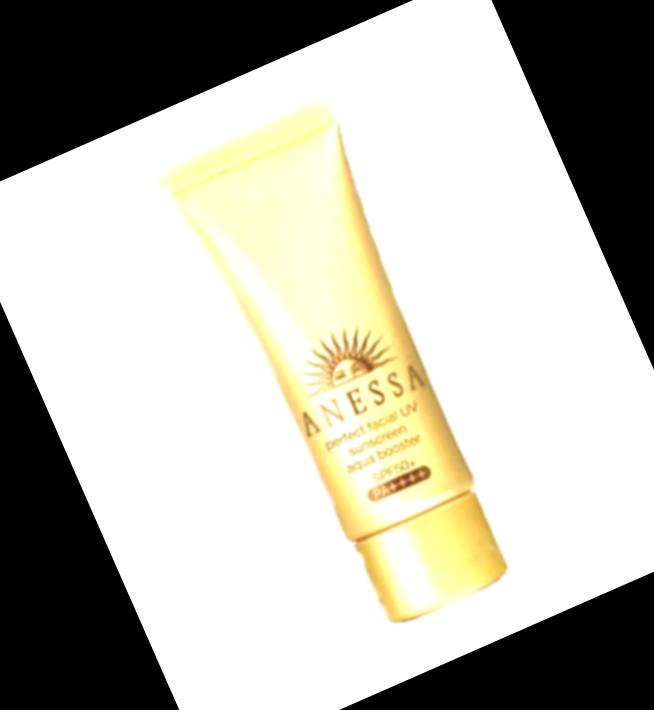cosmetic: (149, 96, 536, 645)
